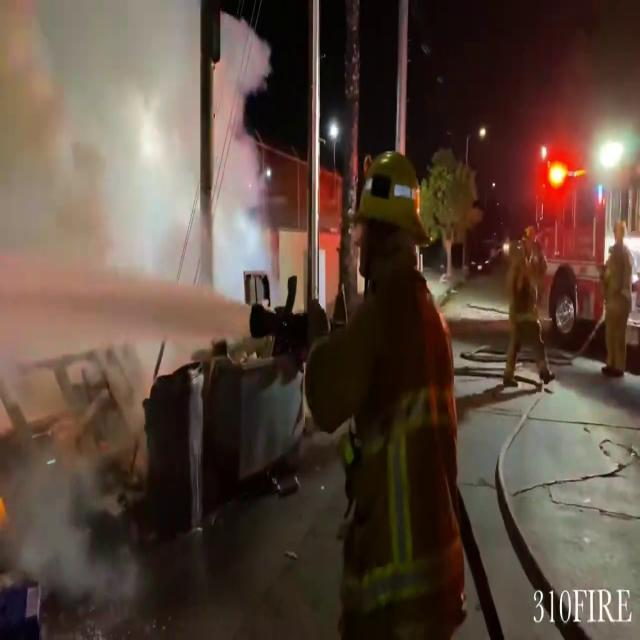Smoke: (1, 0, 300, 356)
